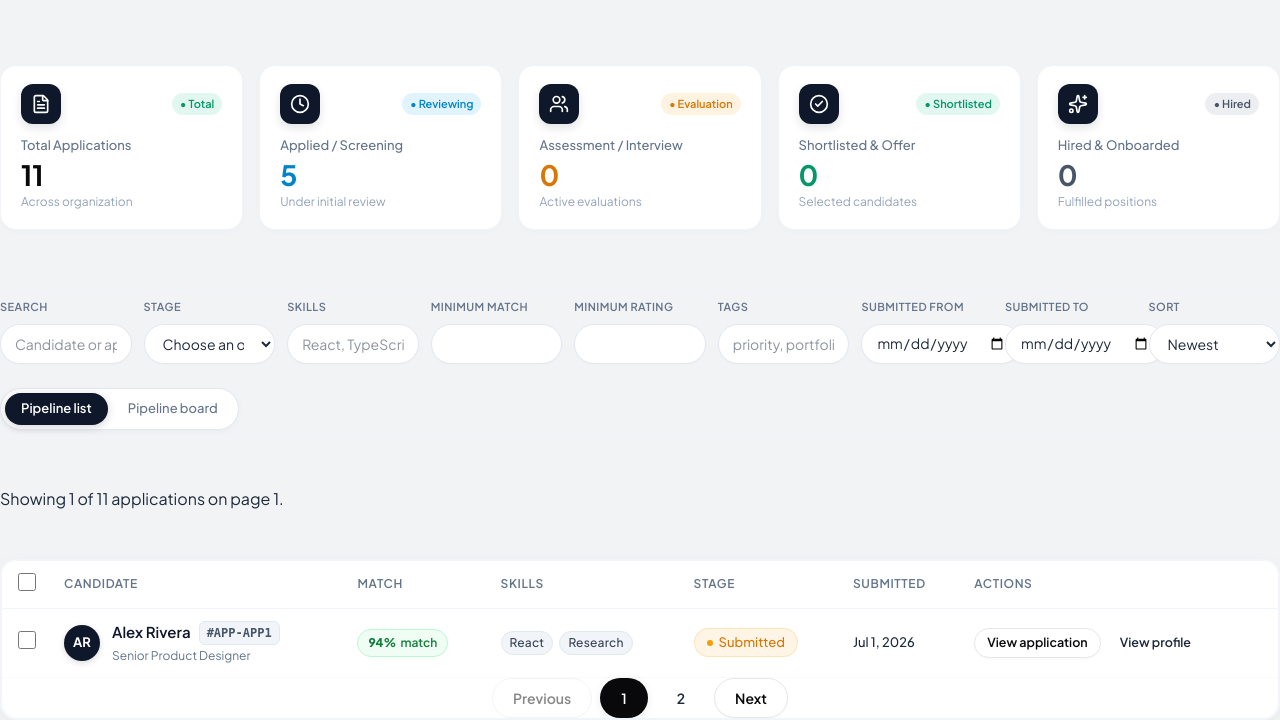
Scenario: safe evidence and candidates › opens Assign Assessment modal on selection, shows eligibility preview, and processes bulk assignment with clear outcomes
This screenshot has width=1280, height=720.
(page scrolled)
Click the checkbox named "Select application for Alex Rivera" at (27,640), box [18,631,36,649]
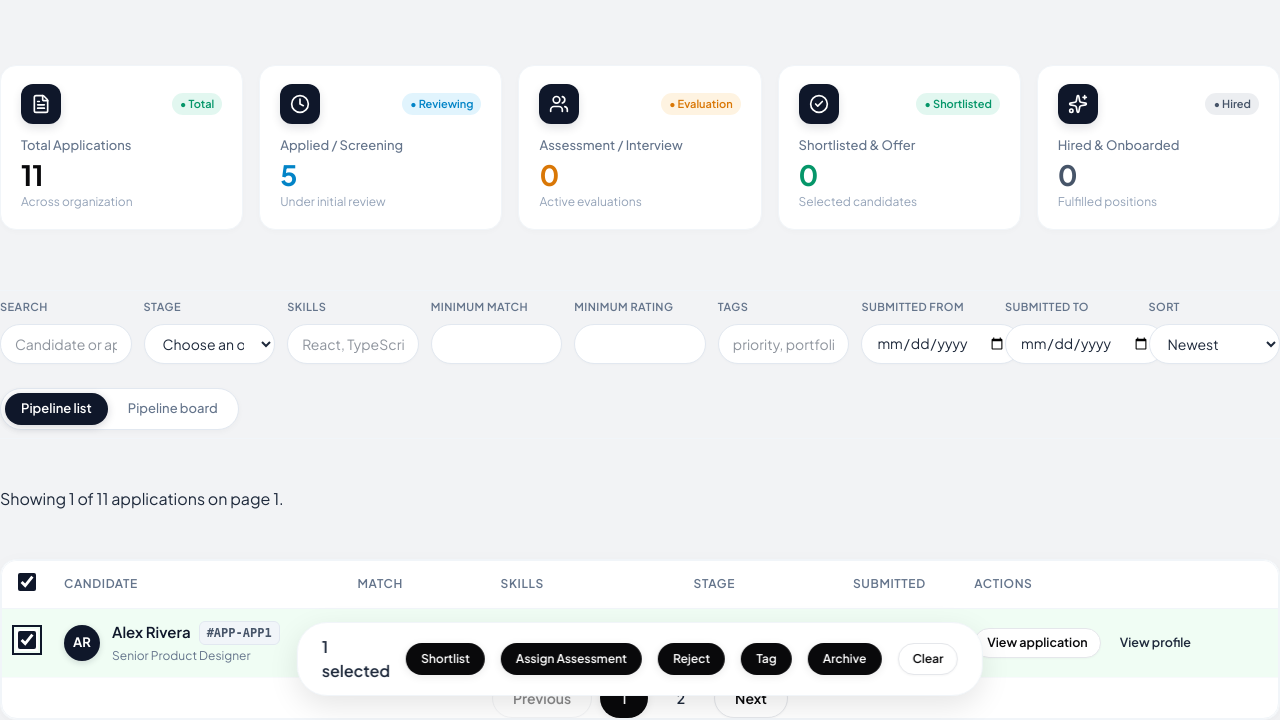
Now the button "Assign Assessment" is shown
Click the button "Assign Assessment" at (571,659), box [501,643,642,675]
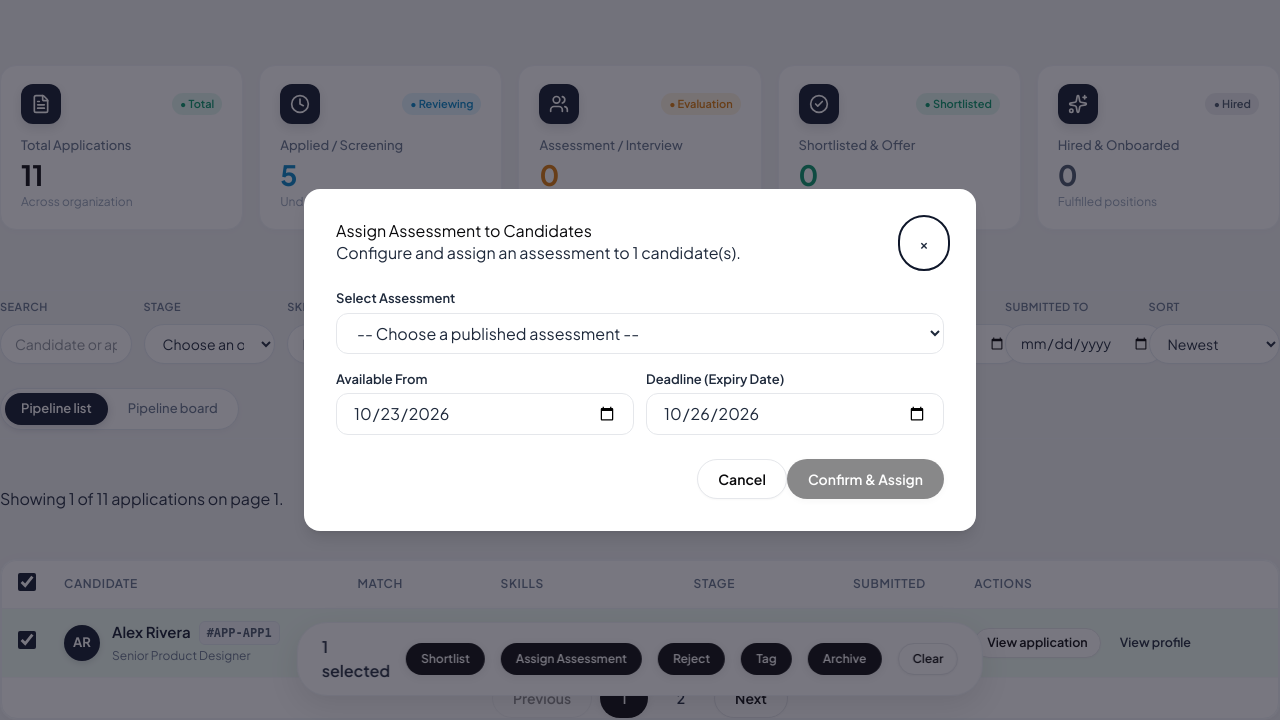
Now the dialog "Assign Assessment to Candidates" is shown, box [304,189,976,531]
Select the assessment from the dropdown
Select "Fullstack Technical Assessment (60 mins · 75% pass)" in the dropdown labelled "Select Assessment" at (640,333), box [336,312,944,354]
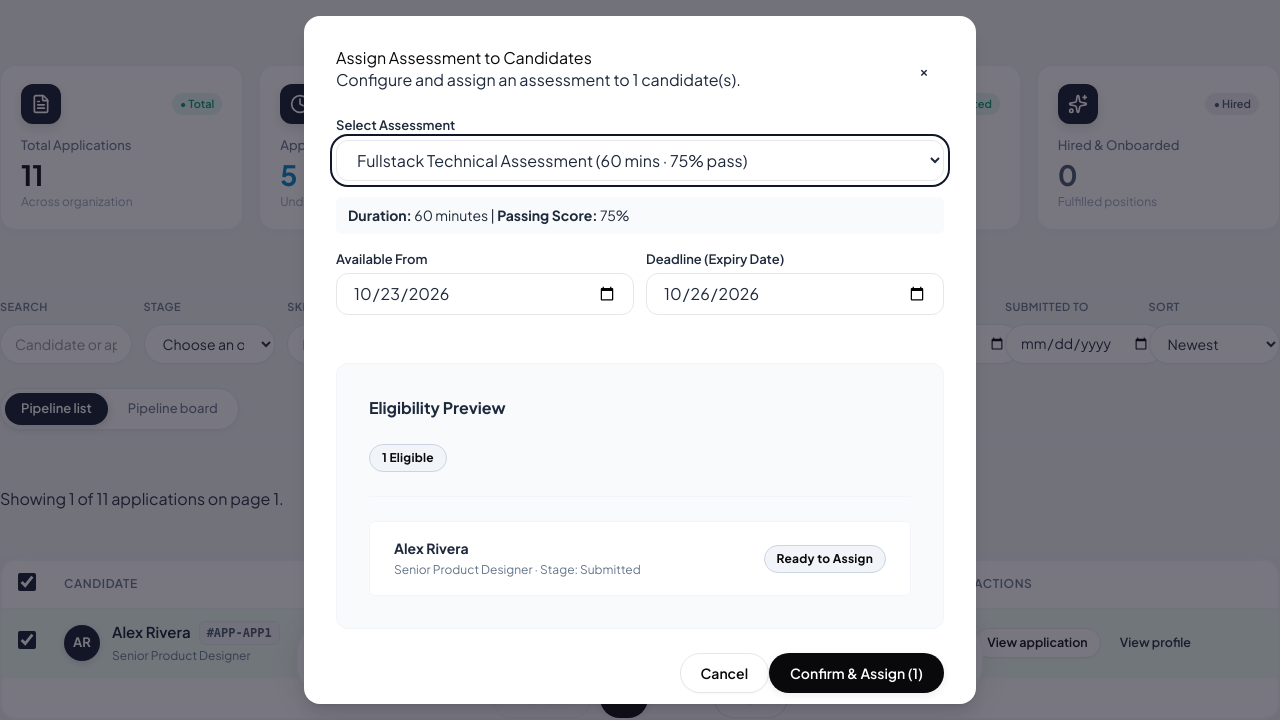
Now the text "1 Eligible" is shown, box [369,444,447,472]
Now the text "Ready to Assign" is shown, box [764,544,886,572]
Now the button "Confirm & Assign (1)" is enabled
Click the button "Confirm & Assign (1)" at (857,673), box [769,653,944,693]
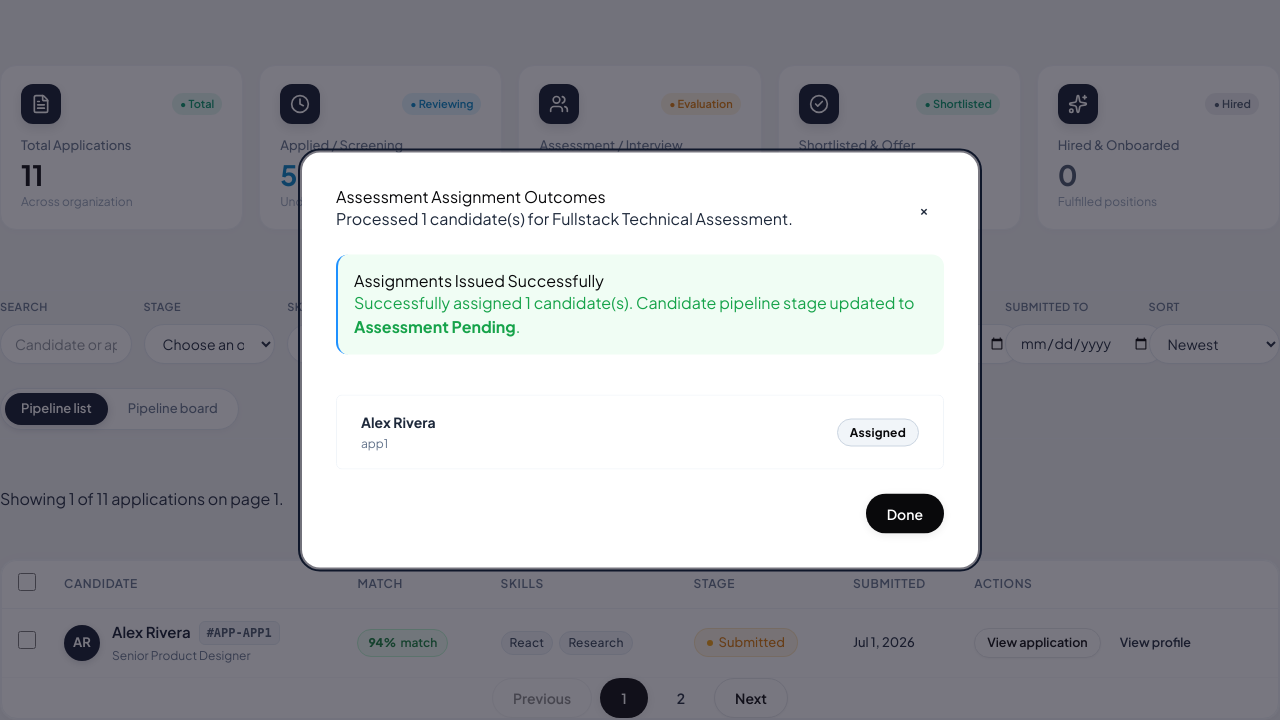
Now the heading "Assignments Issued Successfully" is shown, box [354,270,604,290]
Now the text "Assigned" is shown, box [837,418,919,446]
